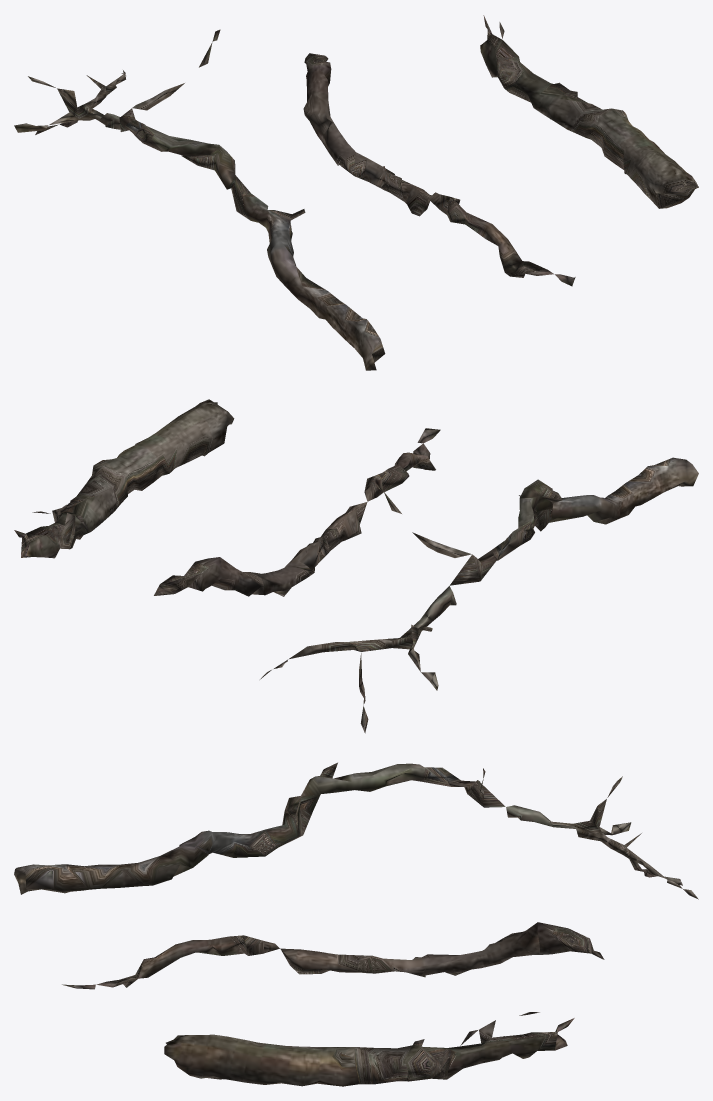
The model's file is branches-dry.lite.28faca75.glb.
The picture shows the model from 3 angles, top to bottom: view 1: azimuth 30°, elevation 25°; view 2: azimuth 150°, elevation 25°; view 3: azimuth 270°, elevation 25°; orthographic projection. The views are drawn at different scales.
Visible parts, largest first — view 1: model; view 2: model; view 3: model.
Part boxes in pixels (bbox=[...]): model: bbox=[14, 15, 698, 370]; model: bbox=[14, 399, 698, 733]; model: bbox=[14, 762, 698, 1086].
Bounding box in the file's own units: 1.05 × 0.333 × 1.3.
1 material, 1 textured.
